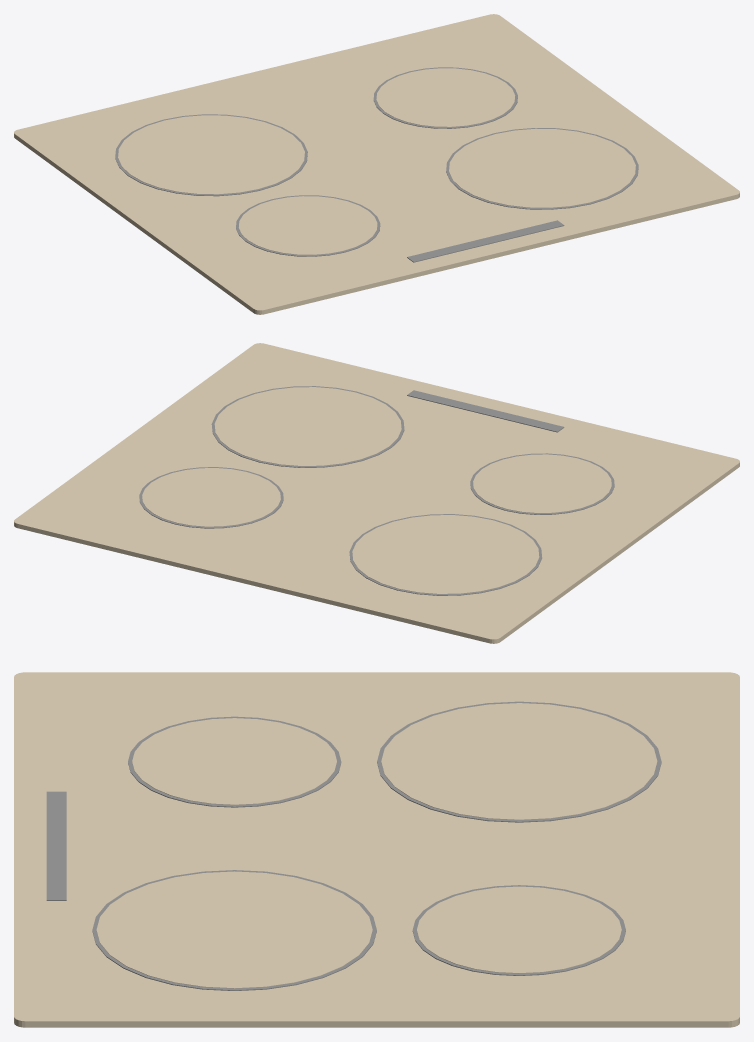
The model's file is a_hob_ind4_3.glb.
3 renders of one model, top to bottom at view 1: azimuth 30°, elevation 25°; view 2: azimuth 150°, elevation 25°; view 3: azimuth 270°, elevation 25°, orthographic. The views are drawn at different scales.
Parts seen in each view (by area): view 1: o, o.002, o.008, o.006, o.004, o.009, o.001, o.007, o.003, o.005; view 2: o, o.008, o.002, o.006, o.004, o.009, o.007, o.001, o.003, o.005; view 3: o, o.008, o.002, o.004, o.006, o.009, o.001, o.007, o.003, o.005.
Boxes of the visible parts, box(x1,y1,x2,y2) form: o: box(14, 14, 739, 314); o.002: box(118, 115, 304, 194); o.008: box(449, 128, 635, 207); o.006: box(238, 196, 377, 254); o.004: box(376, 68, 515, 126); o.009: box(407, 220, 564, 262); o.001: box(115, 114, 307, 196); o.007: box(446, 128, 638, 209); o.003: box(373, 67, 517, 128); o.005: box(236, 195, 380, 256); o: box(14, 343, 739, 643); o.008: box(214, 387, 401, 466); o.002: box(352, 515, 539, 594); o.006: box(473, 454, 611, 513); o.004: box(142, 468, 280, 526); o.009: box(407, 390, 564, 432); o.007: box(211, 386, 404, 467); o.001: box(349, 514, 542, 595); o.003: box(139, 467, 283, 528); o.005: box(470, 453, 614, 514); o: box(14, 672, 739, 1027); o.008: box(96, 871, 372, 988); o.002: box(381, 703, 657, 819); o.004: box(417, 886, 621, 973); o.006: box(132, 718, 336, 804); o.009: box(46, 791, 66, 900); o.001: box(377, 701, 661, 822); o.007: box(92, 870, 376, 990); o.003: box(412, 885, 625, 975); o.005: box(128, 716, 341, 807).
Bounding box in the file's own units: 0.58 × 0.0059 × 0.51.
